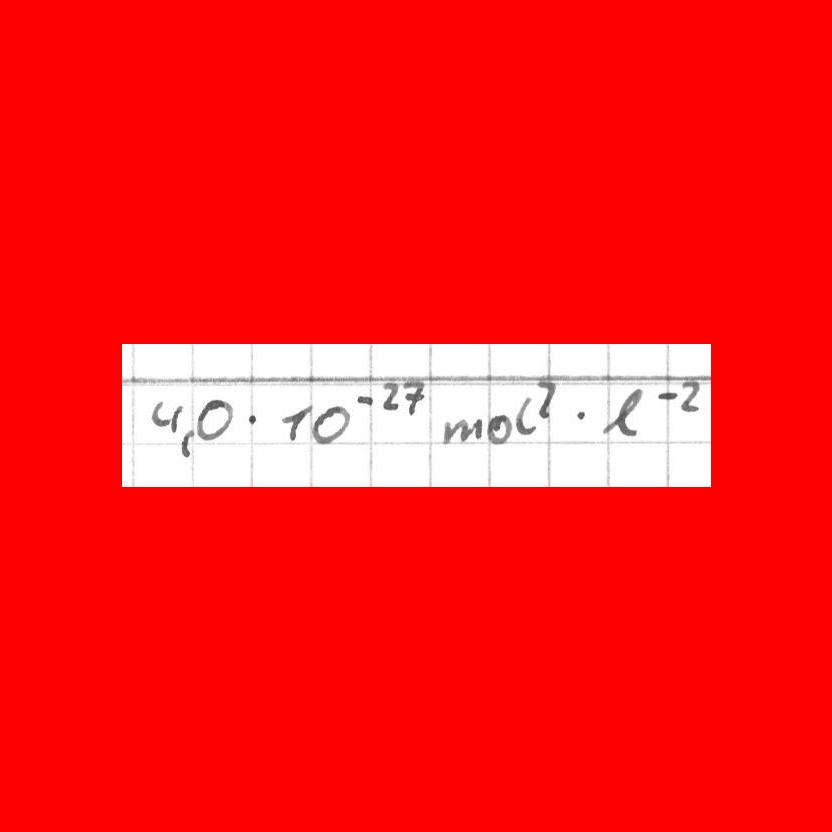Char: (601, 389, 645, 437), (196, 395, 231, 442), (443, 413, 487, 446), (313, 404, 347, 446), (279, 404, 310, 444), (151, 398, 183, 435), (397, 378, 426, 416), (515, 396, 536, 439), (680, 377, 705, 413), (535, 380, 556, 421), (487, 412, 511, 444), (380, 378, 399, 415), (178, 427, 196, 457), (571, 406, 592, 424), (354, 392, 374, 410), (243, 410, 261, 428), (657, 390, 679, 403)
